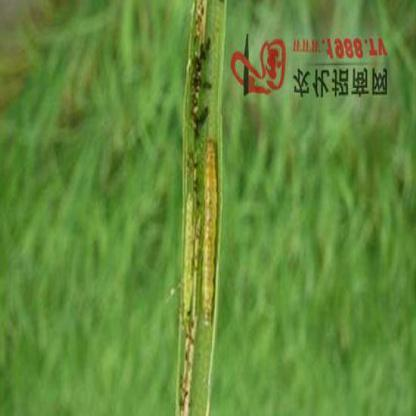leaf-folder: (184, 130, 215, 330)
